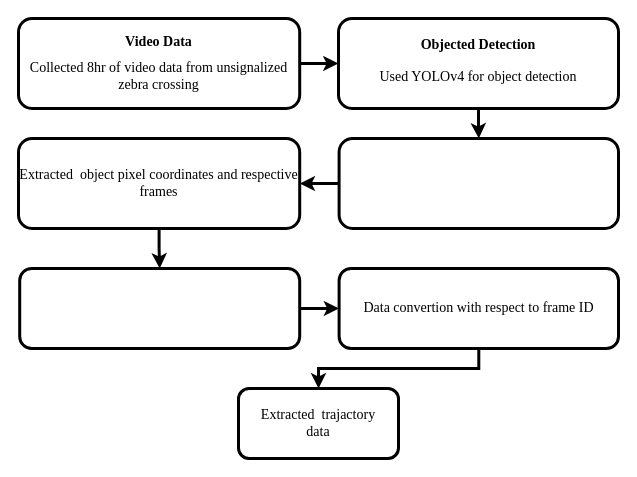
Some shapes in this 637 by 477 pixel diagram are drawn without their labels. Here are the shapes that lost their labels. From the top down, the box of each, then its label:
(337, 136, 620, 230): Tracking Used DeepSort for road object tracking
(18, 266, 301, 350): Converting pixel coordinates to world coordinates using homography
